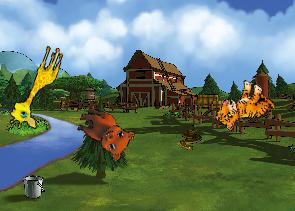bear: (69, 104, 138, 163)
giraffe: (5, 39, 66, 134)
tiger: (211, 73, 279, 143)
